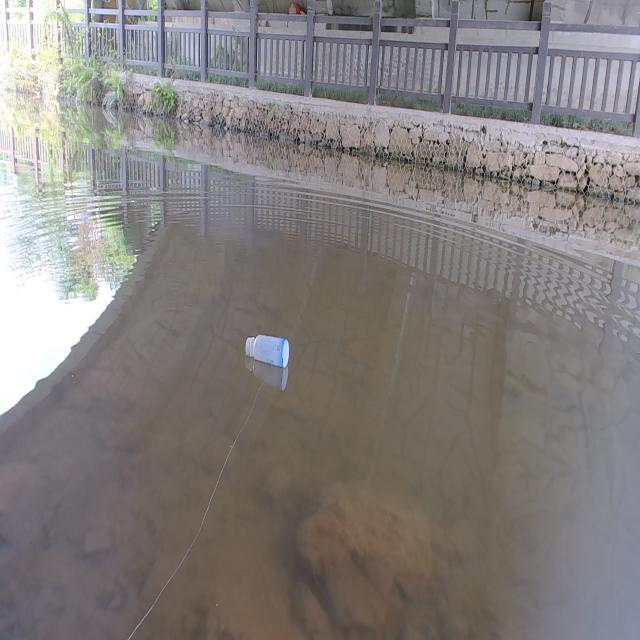garbage: (245, 333, 290, 368)
